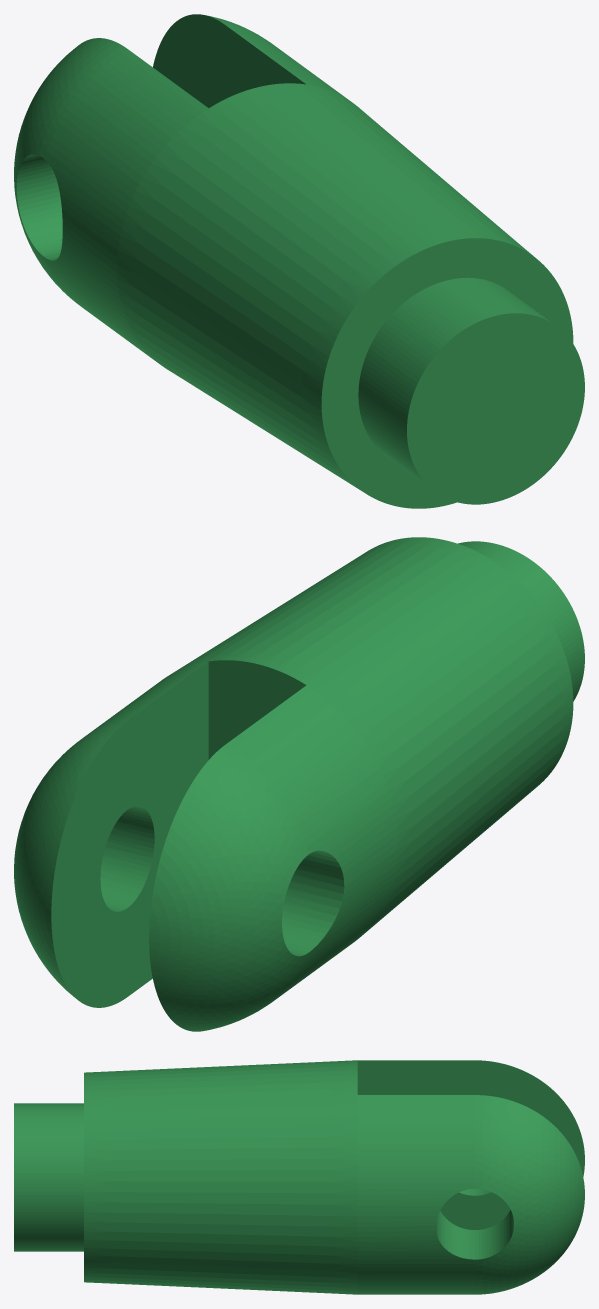
3 views of the same model, one above another, from view 1: azimuth 30°, elevation 25°; view 2: azimuth 150°, elevation 25°; view 3: azimuth 270°, elevation 25° (orthographic). The views are drawn at different scales.
Parts seen in each view (by area): view 1: node; view 2: node; view 3: node.
Part boxes in pixels (x1,y1,x2,y2): node: (14,14,584,508); node: (14,537,584,1031); node: (14,1060,584,1294).
Bounding box in the file's own units: 0.0642 × 0.0642 × 0.1564.
